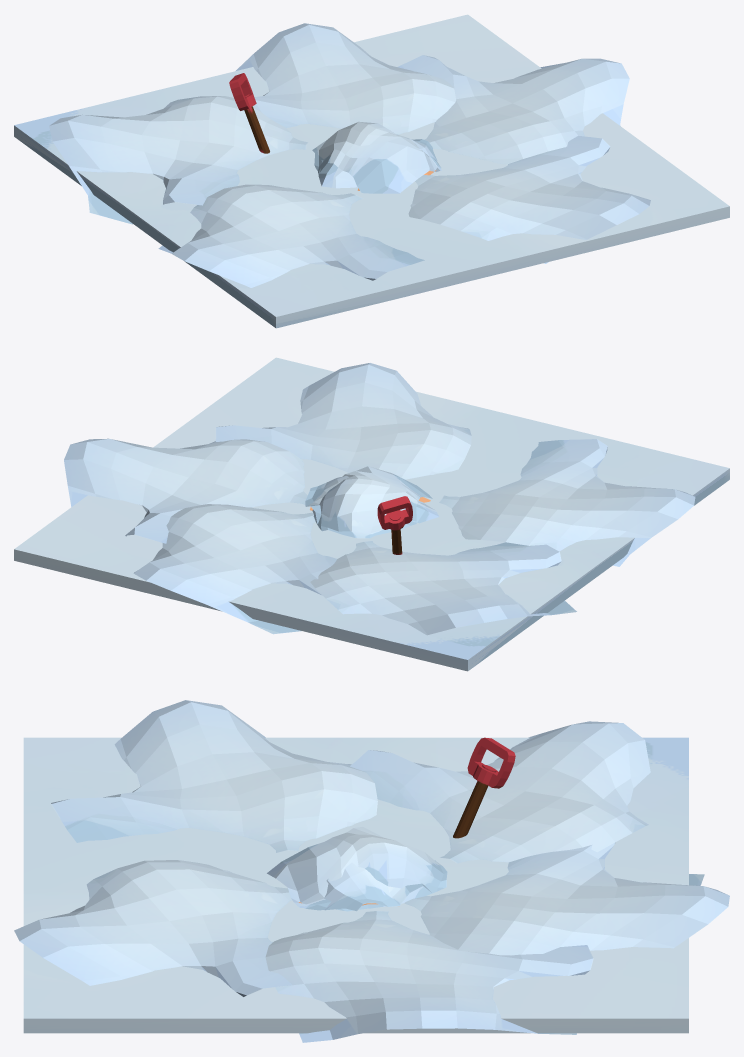
File: EscenarioGusanos_001.glb
The picture shows the model from 3 angles, top to bottom: view 1: azimuth 30°, elevation 25°; view 2: azimuth 150°, elevation 25°; view 3: azimuth 270°, elevation 25°; orthographic projection. The views are drawn at different scales.
Visible parts, largest first — view 1: Escenario_Suelo.006, Nieve_001, Nieve_002; view 2: Escenario_Suelo.006, Nieve_001, Nieve_002; view 3: Escenario_Suelo.006, Nieve_001, Nieve_002.
Part boxes in pixels (<box>): Escenario_Suelo.006: <box>14,14,729,328</box>; Nieve_001: <box>312,121,441,193</box>; Nieve_002: <box>318,135,437,188</box>; Escenario_Suelo.006: <box>14,357,729,671</box>; Nieve_001: <box>312,466,432,538</box>; Nieve_002: <box>305,476,439,523</box>; Escenario_Suelo.006: <box>14,700,729,1042</box>; Nieve_001: <box>267,827,447,911</box>; Nieve_002: <box>323,862,431,911</box>.
Size of the model in its own units: 23.38 by 3.91 by 21.53.
3 materials, 2 textured.
